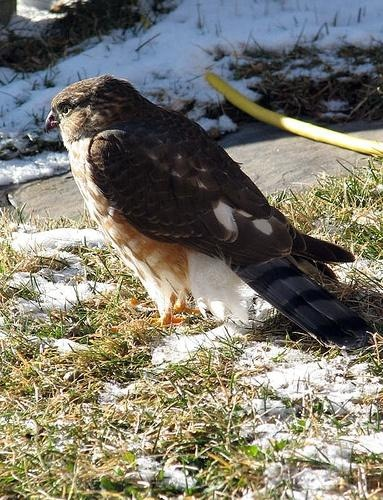bird: (46, 76, 372, 348)
